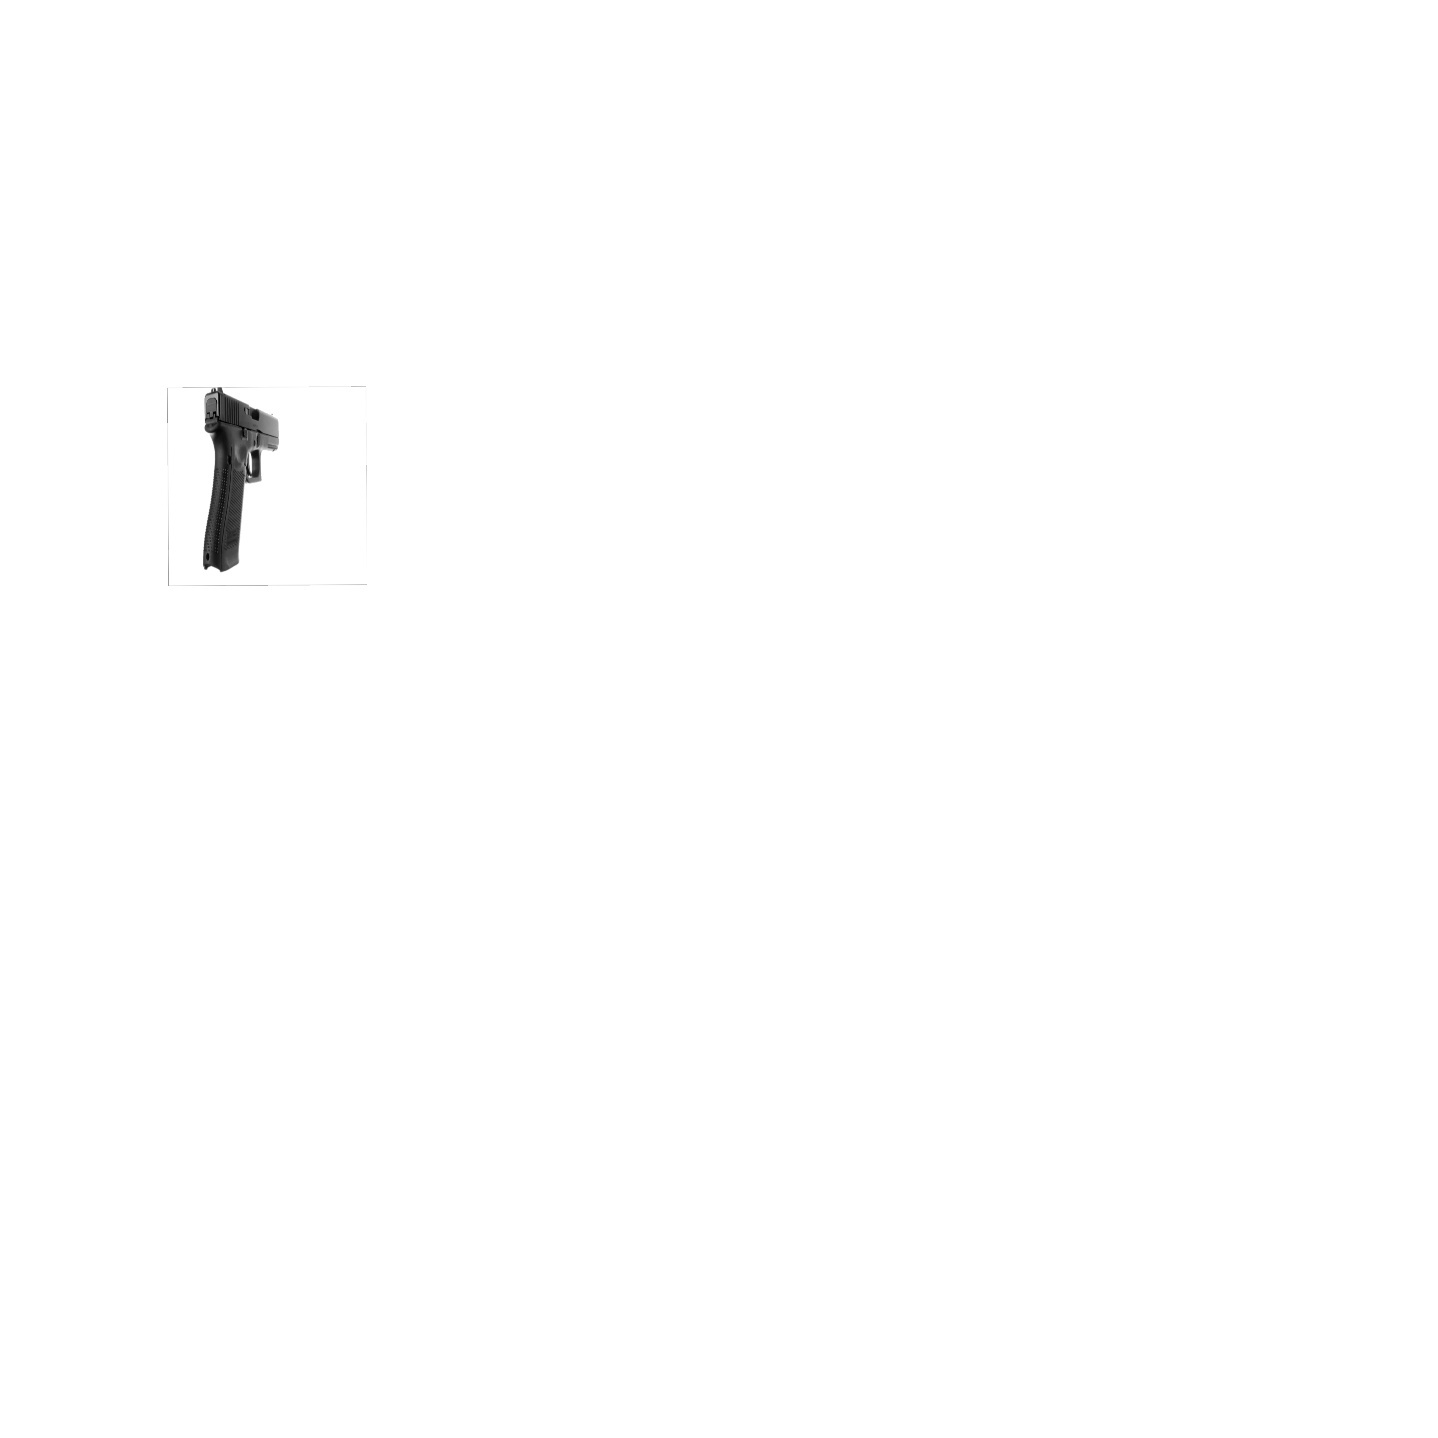gun: (192, 379, 288, 579)
